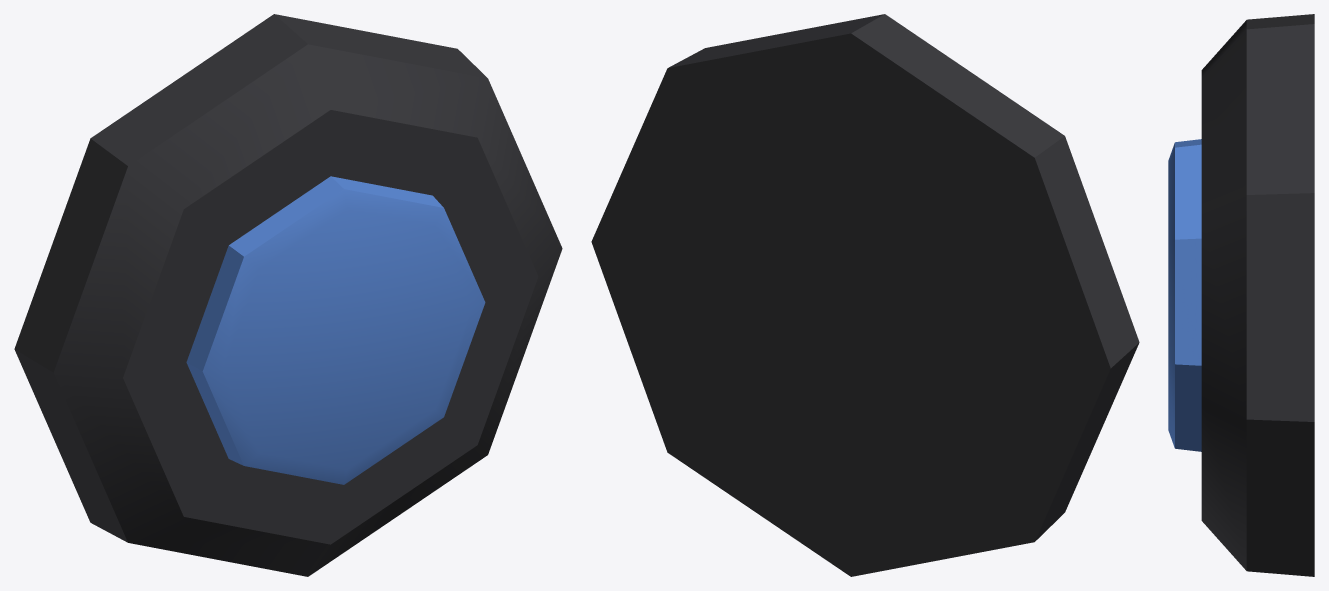
Rendered from clutch_lod2.glb.
The picture shows the model from 3 angles, left to right: view 1: azimuth 30°, elevation 25°; view 2: azimuth 150°, elevation 25°; view 3: azimuth 270°, elevation 25°; orthographic projection.
Visible parts, largest first — view 1: clutch_lod2; view 2: clutch_lod2; view 3: clutch_lod2.
Part boxes in pixels (x1,y1,x2,y2): clutch_lod2: (14, 14, 562, 576); clutch_lod2: (591, 14, 1139, 576); clutch_lod2: (1168, 14, 1314, 576).
Size of the model in its own units: 0.18 by 0.18 by 0.044.
